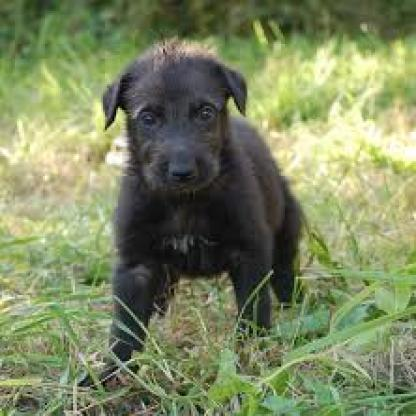Deerhound: (79, 30, 313, 378)
